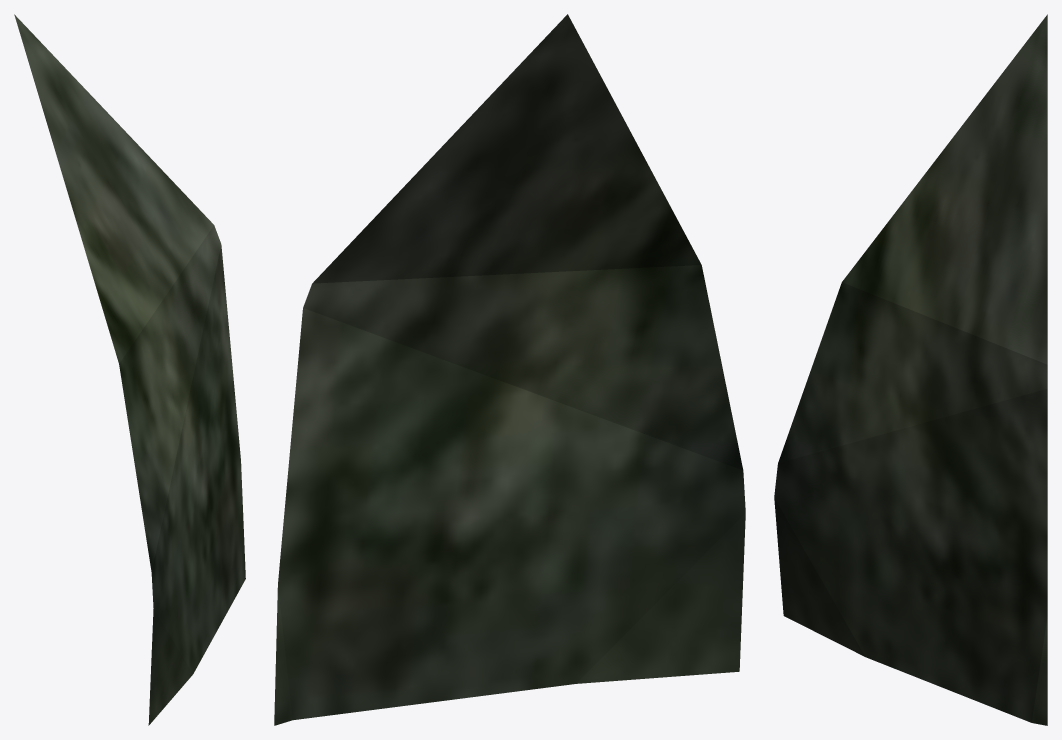
The picture shows the model from 3 angles, left to right: view 1: azimuth 30°, elevation 25°; view 2: azimuth 150°, elevation 25°; view 3: azimuth 270°, elevation 25°; orthographic projection. The views are drawn at different scales.
Bounding box in the file's own units: 0.6631 × 1.69 × 0.6966.
1 material, 1 textured.
